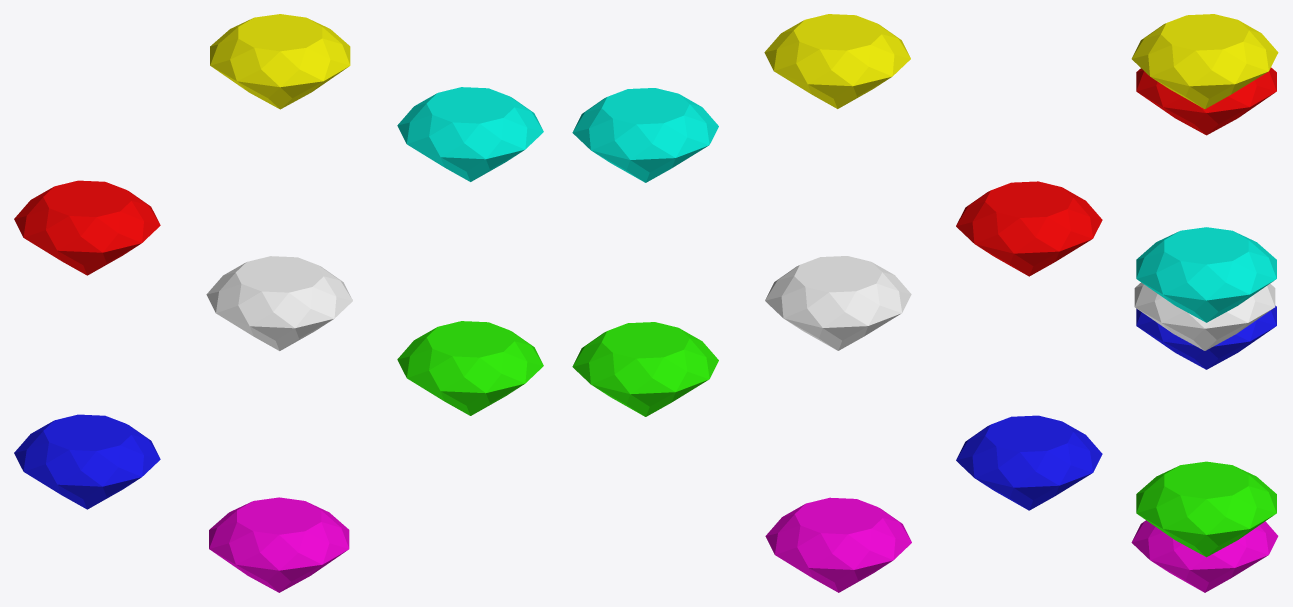
File: emerald_chaos.glb
The picture shows the model from 3 angles, left to right: view 1: azimuth 30°, elevation 25°; view 2: azimuth 150°, elevation 25°; view 3: azimuth 270°, elevation 25°; orthographic projection.
Visible parts, largest first — view 1: Gem; view 2: Gem; view 3: Gem.
Part boxes in pixels (x1,y1,x2,y2): Gem: (14,14,543,592); Gem: (572,14,1102,592); Gem: (1131,14,1278,592).
Size of the model in its own units: 8 by 8.38 by 1.99.
